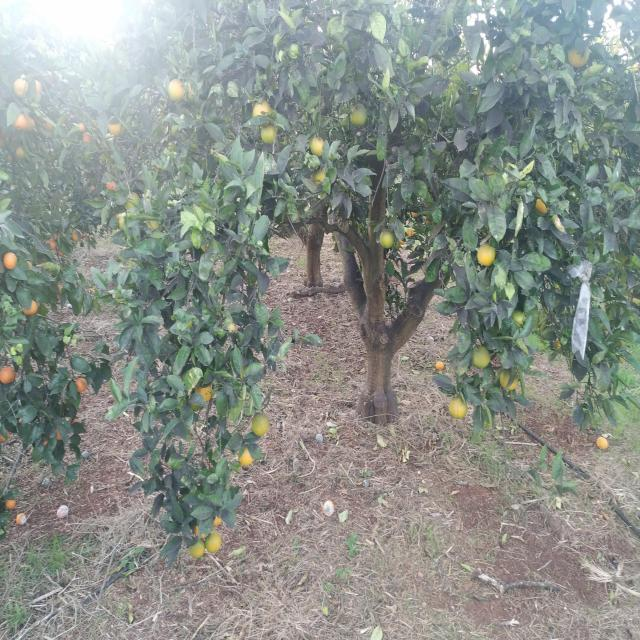Jeruk Belum Matang: (568, 41, 591, 68), (252, 99, 274, 125), (498, 366, 520, 392), (252, 410, 272, 438), (532, 192, 554, 215), (194, 379, 214, 404), (349, 103, 368, 129), (199, 232, 218, 256), (168, 77, 186, 101), (478, 244, 496, 268), (259, 124, 278, 146), (472, 346, 491, 368), (12, 77, 30, 100), (511, 309, 527, 334), (108, 114, 126, 136), (238, 444, 256, 466), (310, 167, 328, 189), (450, 396, 468, 418), (205, 531, 222, 554), (190, 536, 206, 560), (310, 134, 326, 158), (222, 313, 238, 336), (124, 192, 142, 212), (183, 82, 200, 103), (209, 508, 224, 530), (114, 210, 130, 230), (378, 229, 394, 249), (146, 213, 161, 234), (12, 112, 27, 131), (30, 79, 43, 100), (194, 520, 208, 538), (24, 115, 36, 134), (9, 136, 23, 151), (15, 146, 28, 161), (44, 116, 54, 134), (596, 436, 608, 451), (553, 338, 565, 350), (6, 152, 16, 166), (411, 206, 422, 218), (0, 132, 8, 148), (424, 214, 434, 226), (82, 133, 92, 144), (77, 121, 86, 133), (392, 240, 400, 252), (398, 234, 406, 244), (406, 228, 412, 236), (412, 230, 418, 238)
Jeruk Sudah Matang: (0, 366, 16, 386), (22, 296, 38, 315), (2, 252, 18, 270), (52, 424, 68, 442), (38, 432, 52, 449), (74, 377, 88, 393), (24, 258, 38, 273), (56, 282, 66, 302), (67, 417, 80, 432), (5, 495, 18, 510), (44, 238, 57, 252), (70, 229, 82, 242), (52, 230, 61, 242), (56, 248, 66, 258), (82, 229, 88, 238), (85, 234, 90, 243)
